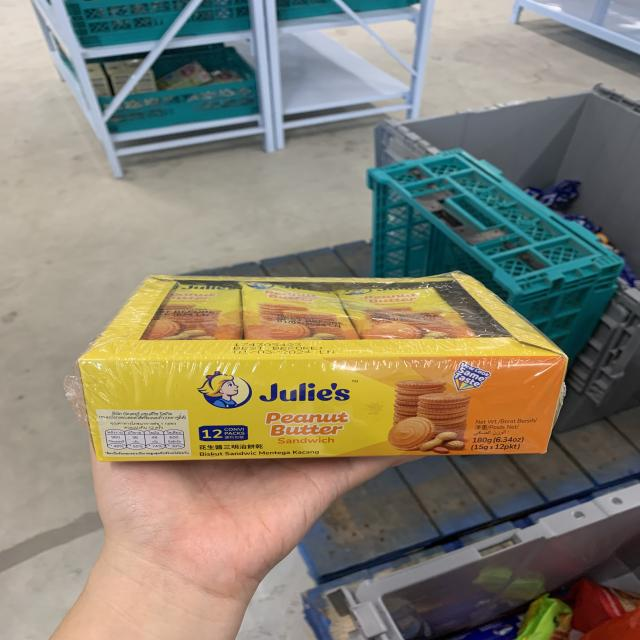object_name: (98, 281, 553, 449)
